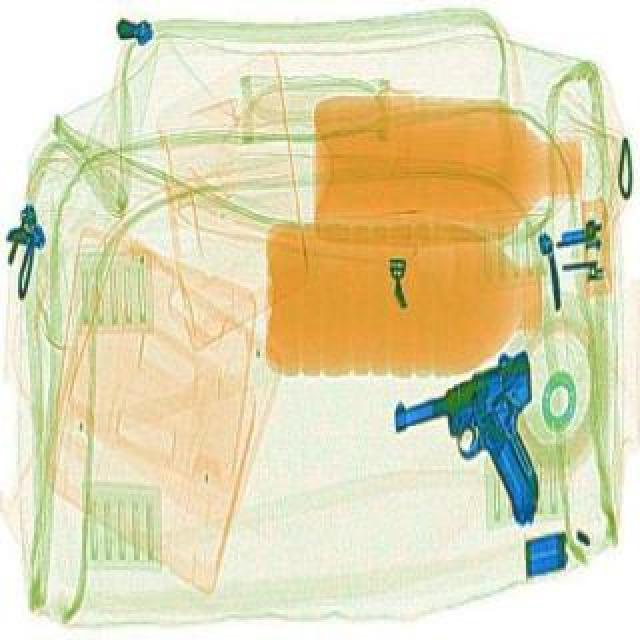gun: (384, 350, 600, 556)
